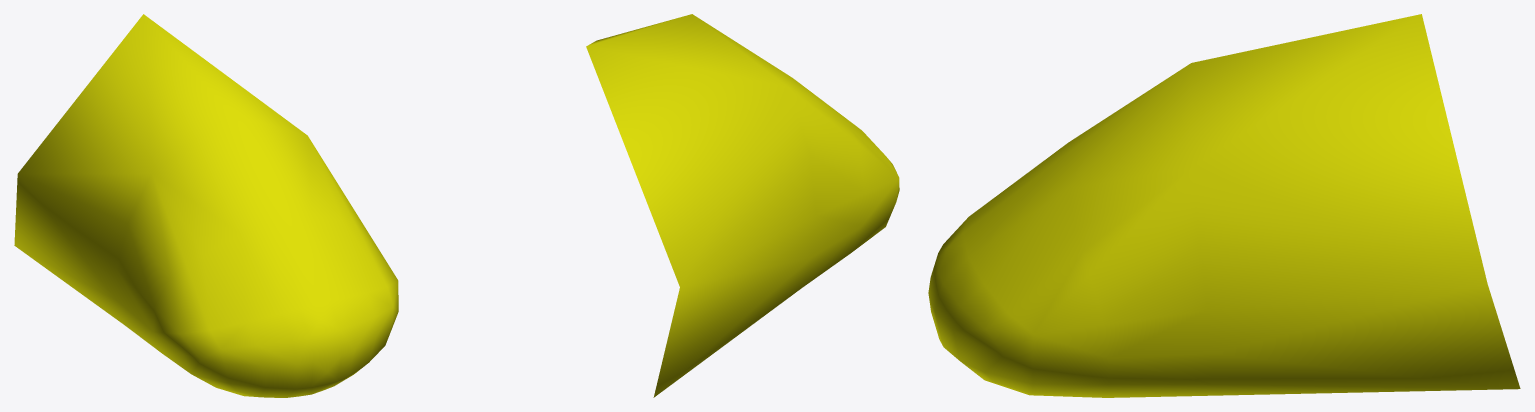
File: Nose_10.glb
The picture shows the model from 3 angles, left to right: view 1: azimuth 30°, elevation 25°; view 2: azimuth 150°, elevation 25°; view 3: azimuth 270°, elevation 25°; orthographic projection. The views are drawn at different scales.
Bounding box in the file's own units: 10.23 × 12.3 × 17.99.
